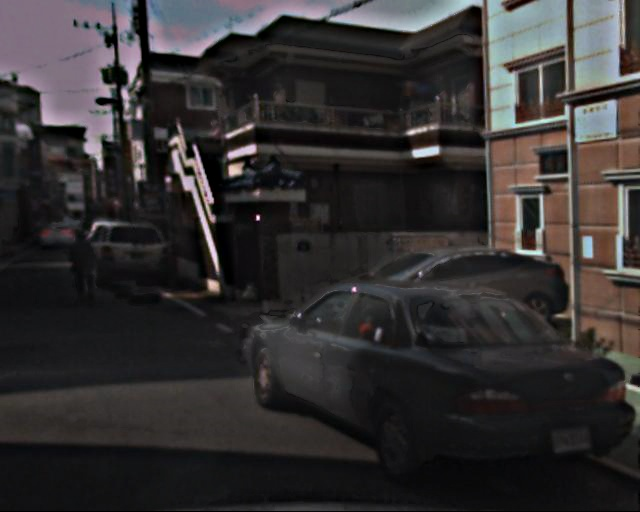person: (70, 228, 101, 304)
